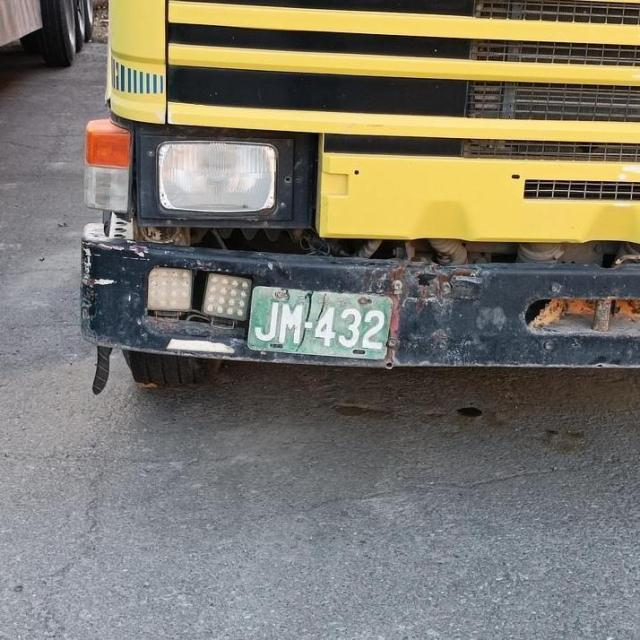GW: (238, 272, 400, 368)
